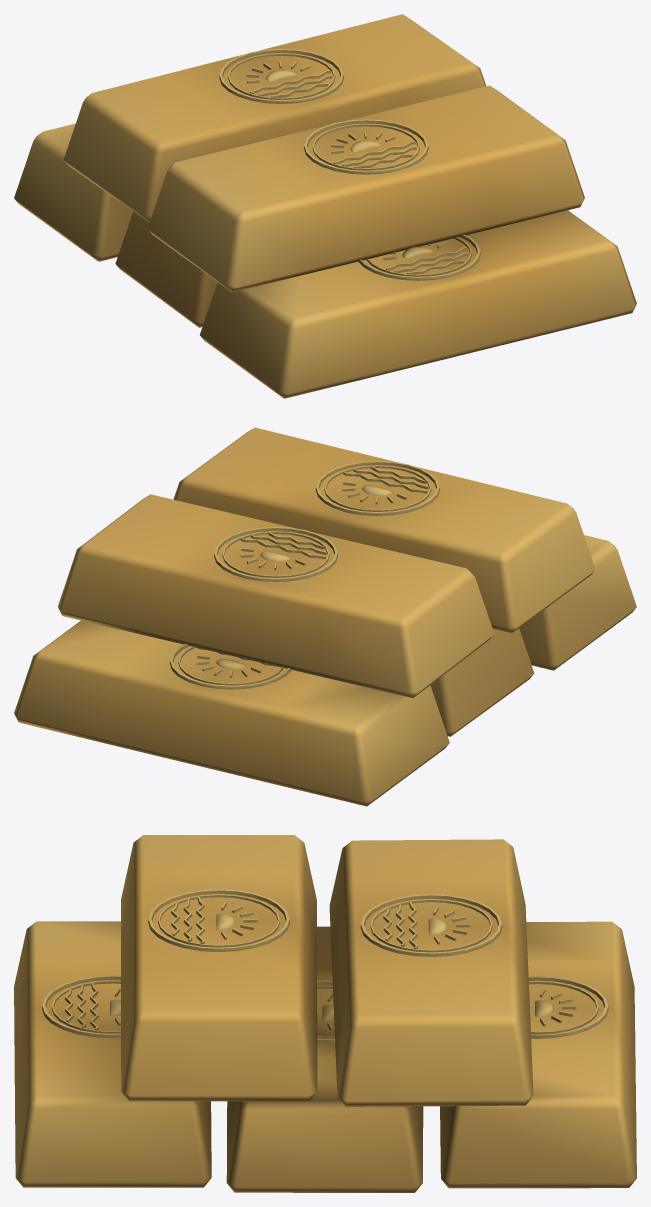
The model's file is gold-bars.f1d45e3e.glb.
The picture shows the model from 3 angles, top to bottom: view 1: azimuth 30°, elevation 25°; view 2: azimuth 150°, elevation 25°; view 3: azimuth 270°, elevation 25°; orthographic projection. The views are drawn at different scales.
Parts seen in each view (by area): view 1: bar_3, bar_0, bar_4, bar_2, bar_1; view 2: bar_4, bar_2, bar_3, bar_0, bar_1; view 3: bar_4, bar_3, bar_0, bar_2, bar_1.
Part boxes in pixels (x1,y1,x2,y2): bar_3: (147, 85, 584, 292); bar_0: (200, 210, 636, 398); bar_4: (63, 14, 486, 222); bar_2: (14, 123, 133, 261); bar_1: (115, 211, 217, 327); bar_4: (57, 494, 494, 697); bar_2: (14, 620, 449, 806); bar_3: (173, 427, 595, 632); bar_0: (519, 535, 636, 670); bar_1: (430, 628, 534, 736); bar_4: (329, 839, 533, 1106); bar_3: (121, 835, 317, 1101); bar_0: (14, 921, 211, 1187); bar_2: (440, 921, 636, 1188); bar_1: (226, 926, 423, 1192).
Bounding box in the file's own units: 0.1133 × 0.0433 × 0.1437.
